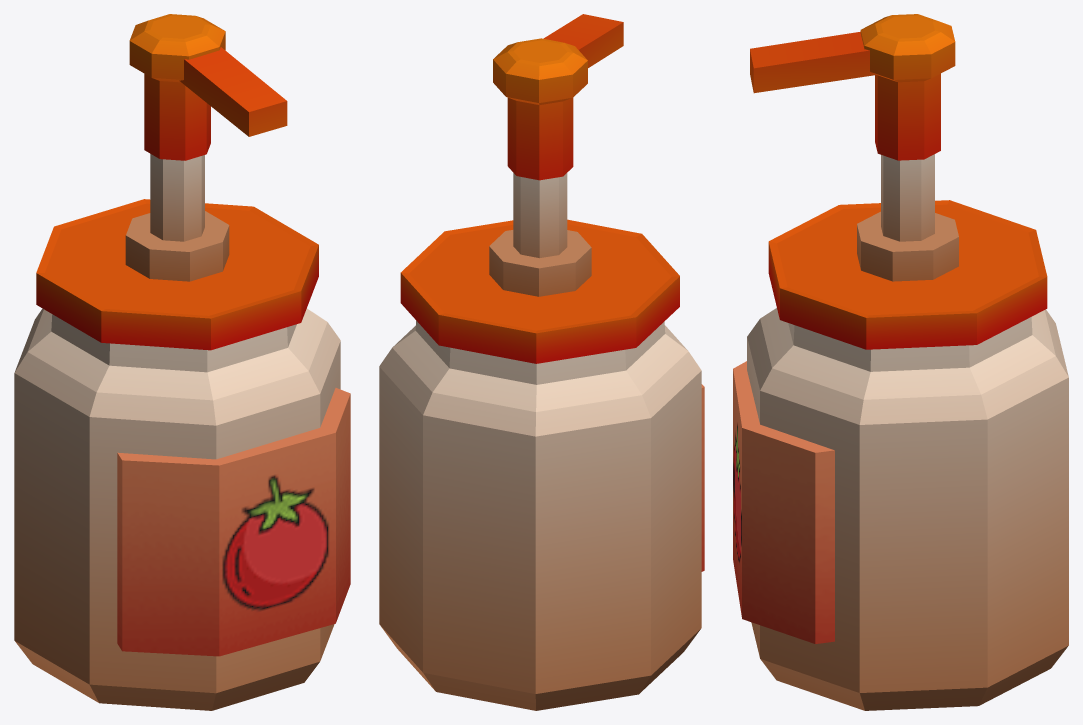
The model's file is PotSauce_Rouge.fbx.
3 renders of one model, left to right at view 1: azimuth 30°, elevation 25°; view 2: azimuth 150°, elevation 25°; view 3: azimuth 270°, elevation 25°, orthographic. The views are drawn at different scales.
Parts seen in each view (by area): view 1: Cube.043, Cube.042, Cube.011; view 2: Cube.043, Cube.011, Cube.042; view 3: Cube.043, Cube.042, Cube.011.
Part boxes in pixels (<box>): Cube.043: <box>14,199,340,710</box>; Cube.042: <box>117,388,350,656</box>; Cube.011: <box>129,14,287,241</box>; Cube.043: <box>379,219,701,710</box>; Cube.011: <box>493,14,623,258</box>; Cube.042: <box>701,384,704,571</box>; Cube.043: <box>747,200,1068,710</box>; Cube.042: <box>733,361,834,643</box>; Cube.011: <box>750,14,955,241</box>.
Size of the model in its own units: 16.46 by 35.18 by 17.18.
